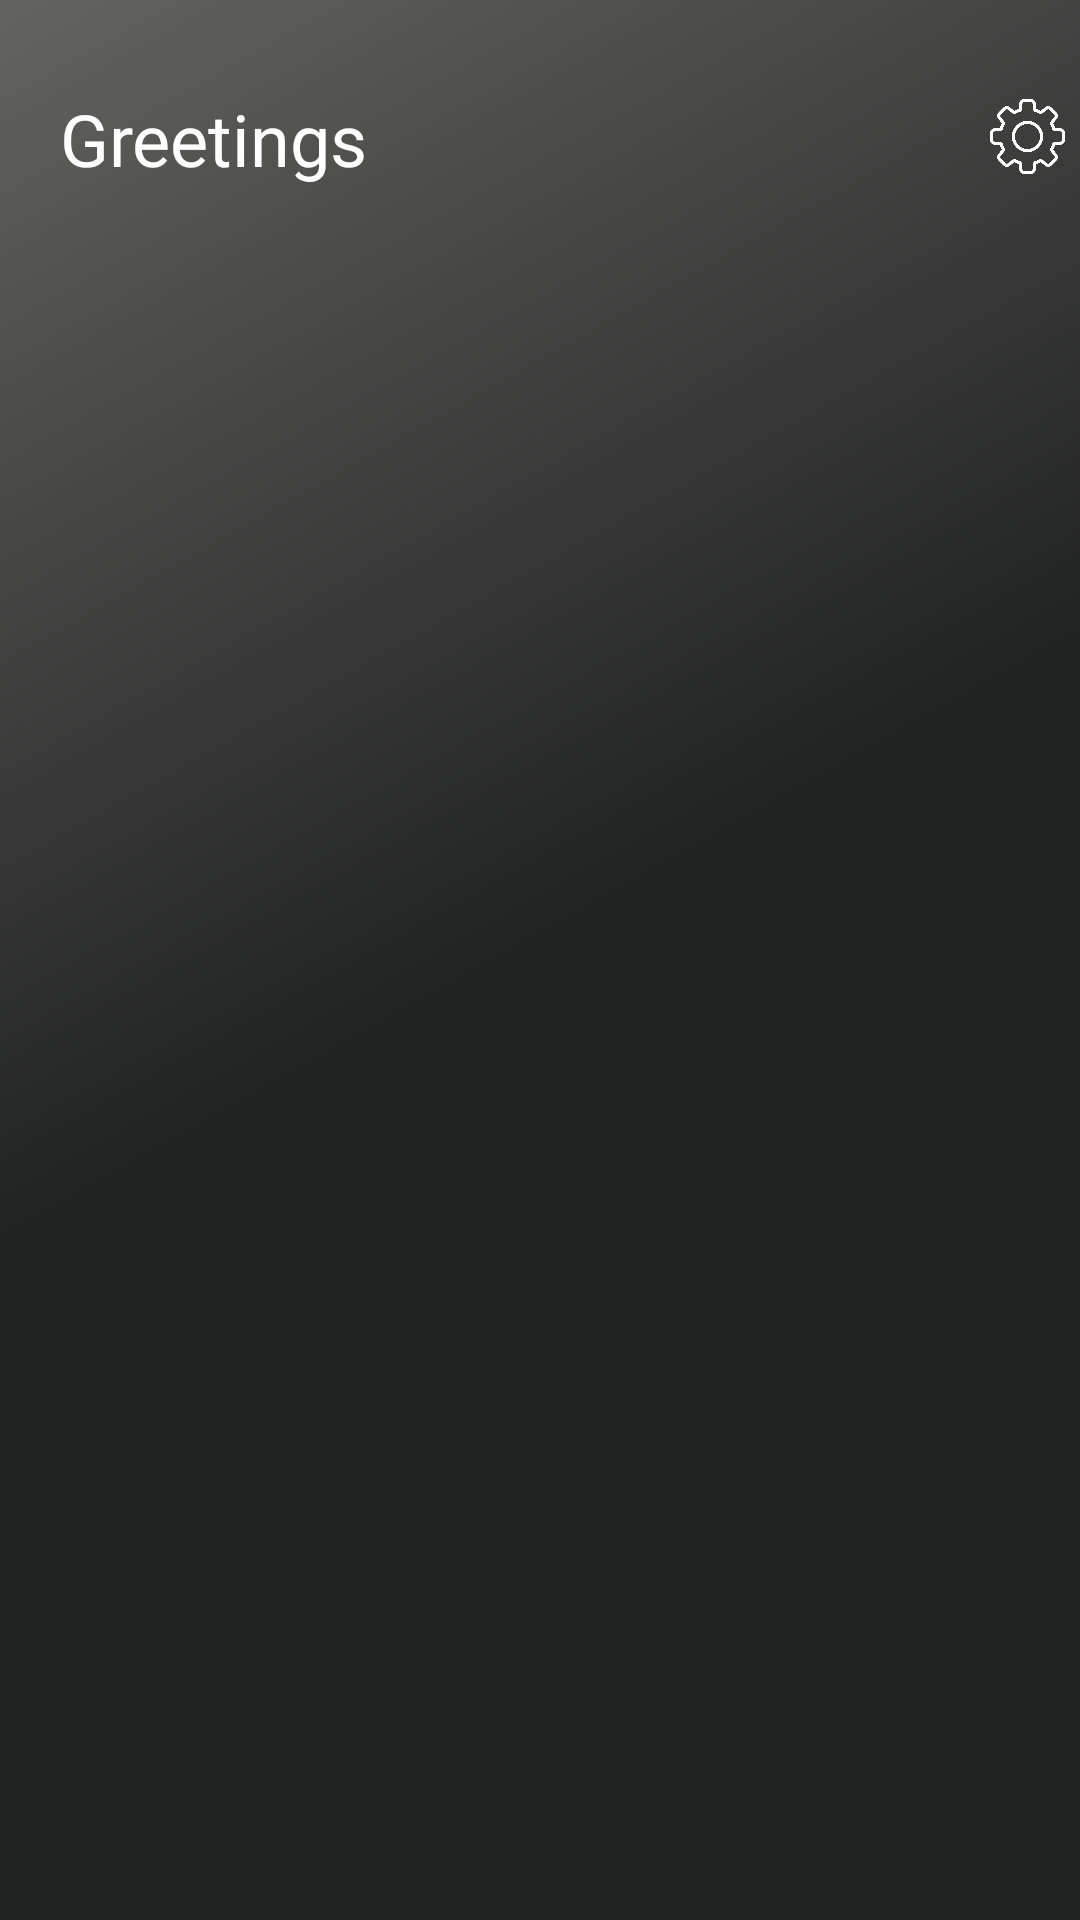

Icons on this 1080px×1920px Android screen, each with its box as bbox=[x1, y1, x2, y2]:
settings: bbox=[990, 99, 1065, 174]
